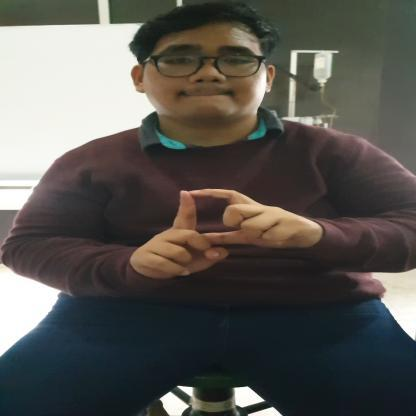D: (132, 188, 310, 279)
